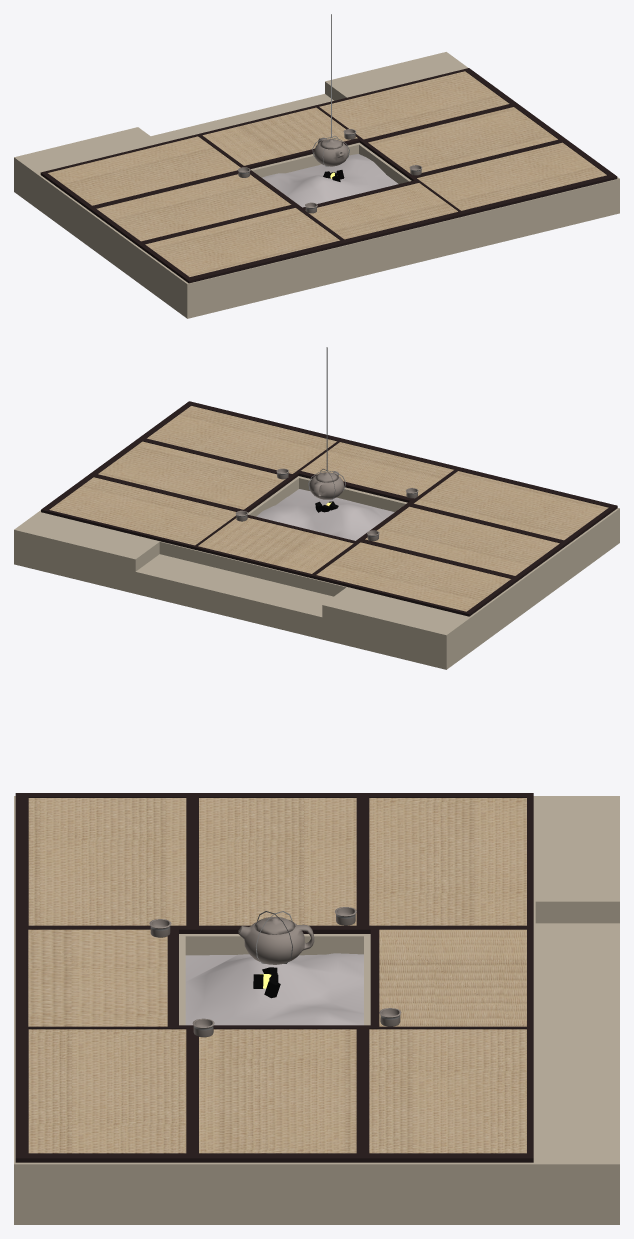
File: Japan_tea_room.glb
3 views of the same model, one above another, from view 1: azimuth 30°, elevation 25°; view 2: azimuth 150°, elevation 25°; view 3: azimuth 270°, elevation 25° (orthographic). The views are drawn at different scales.
Parts seen in each view (by area): view 1: Tea_zone.001, Tea_H_floor.001, Fire.003, KETTLE.001; view 2: Tea_zone.001, Tea_H_floor.001, Fire.003, KETTLE.001; view 3: Tea_zone.001, Tea_H_floor.001, Fire.003, KETTLE.001.
Boxes of the visible parts, bbox=[...] form: Tea_zone.001: bbox=[40, 68, 617, 283]; Tea_H_floor.001: bbox=[14, 52, 619, 318]; Fire.003: bbox=[262, 154, 398, 207]; KETTLE.001: bbox=[314, 137, 348, 166]; Tea_zone.001: bbox=[41, 401, 617, 616]; Tea_H_floor.001: bbox=[14, 476, 619, 669]; Fire.003: bbox=[256, 489, 394, 540]; KETTLE.001: bbox=[309, 471, 344, 499]; Tea_zone.001: bbox=[15, 793, 533, 1162]; Tea_H_floor.001: bbox=[14, 796, 619, 1224]; Fire.003: bbox=[185, 953, 363, 1025]; KETTLE.001: bbox=[238, 916, 314, 964].
Bounding box in the file's own units: 9.15 × 3.98 × 6.36.
Materials: 4 (2 with a texture image).
